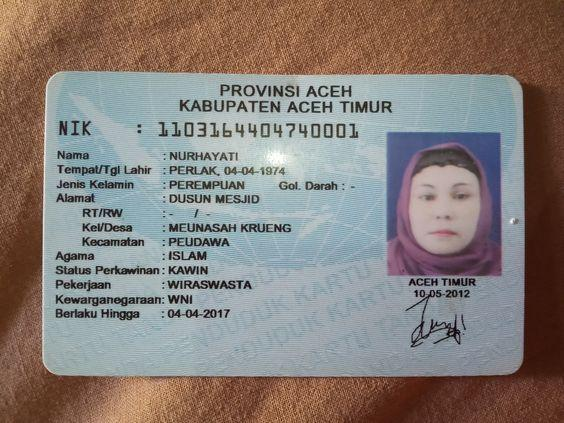ID-card: (41, 73, 522, 373)
